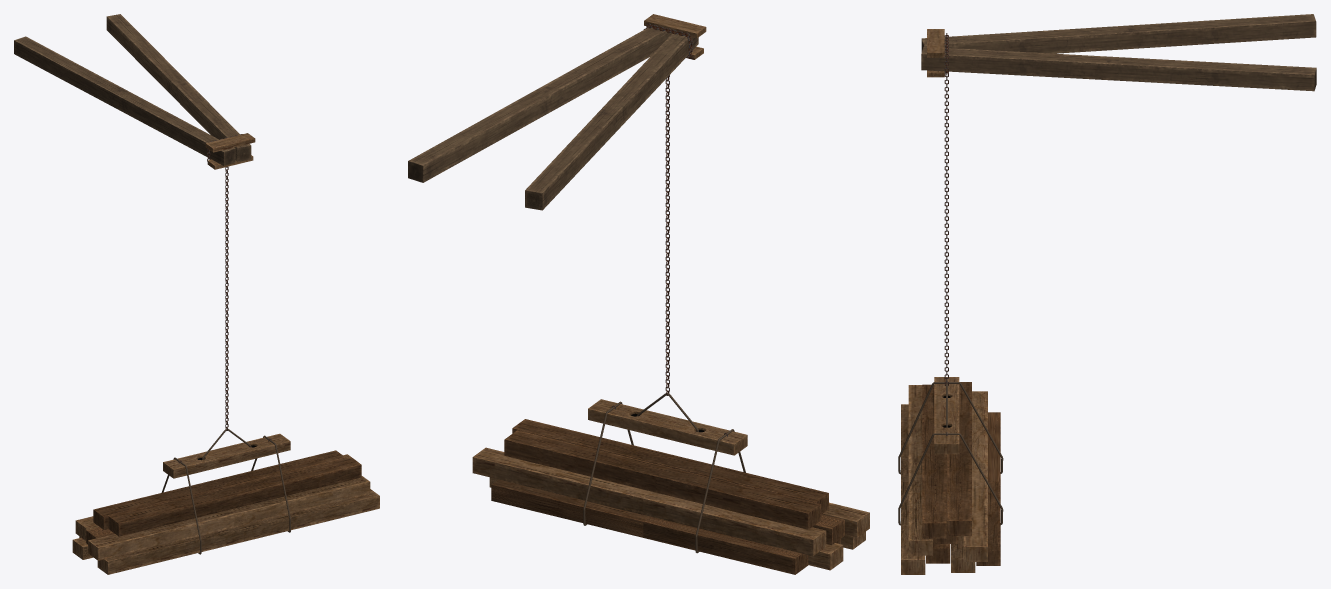
The model's file is SM_Crane2.fbx.
The picture shows the model from 3 angles, left to right: view 1: azimuth 30°, elevation 25°; view 2: azimuth 150°, elevation 25°; view 3: azimuth 270°, elevation 25°; orthographic projection. The views are drawn at different scales.
Parts seen in each view (by area): view 1: SM_Crane2_LOD0; view 2: SM_Crane2_LOD0; view 3: SM_Crane2_LOD0.
Part boxes in pixels (x1=…): SM_Crane2_LOD0: x1=14, y1=14, x2=379, y2=574; SM_Crane2_LOD0: x1=408, y1=14, x2=869, y2=574; SM_Crane2_LOD0: x1=898, y1=14, x2=1316, y2=574.
Bounding box in the file's own units: 584 × 638 × 772.
Materials: 2 (2 with a texture image).
